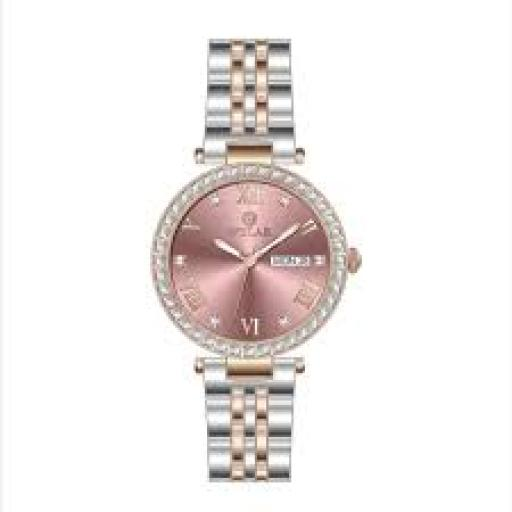KolSaati: (112, 23, 396, 467)
